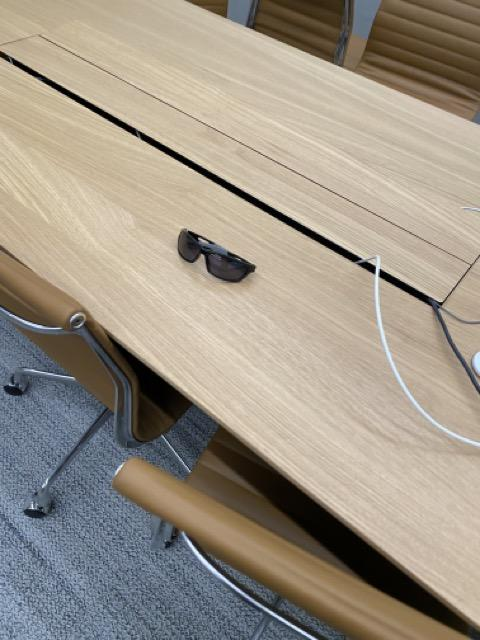Sunglasses: (176, 226, 258, 286)
